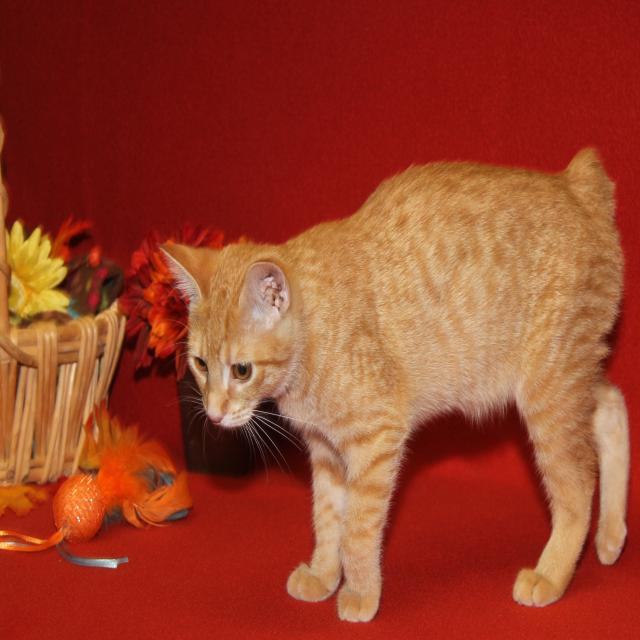American Bobtail: (155, 143, 636, 629)
